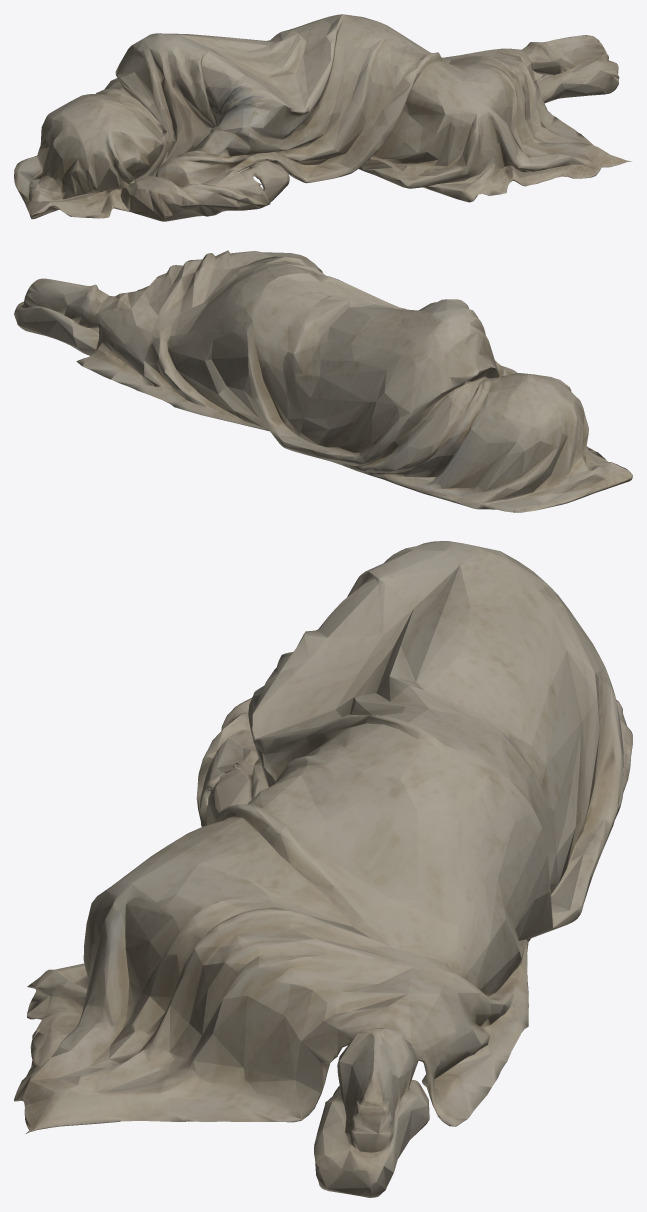
File: Sleeping corpse.fbx
3 renders of one model, top to bottom at view 1: azimuth 30°, elevation 25°; view 2: azimuth 150°, elevation 25°; view 3: azimuth 270°, elevation 25°, orthographic. The views are drawn at different scales.
Visible parts, largest first — view 1: material; view 2: material; view 3: material.
Part boxes in pixels (x1,y1,x2,y2): material: (14, 14, 631, 221); material: (14, 250, 632, 512); material: (14, 541, 632, 1197).
Bounding box in the file's own units: 1.17 × 0.2595 × 0.5574.
Materials: 1 (1 with a texture image).
